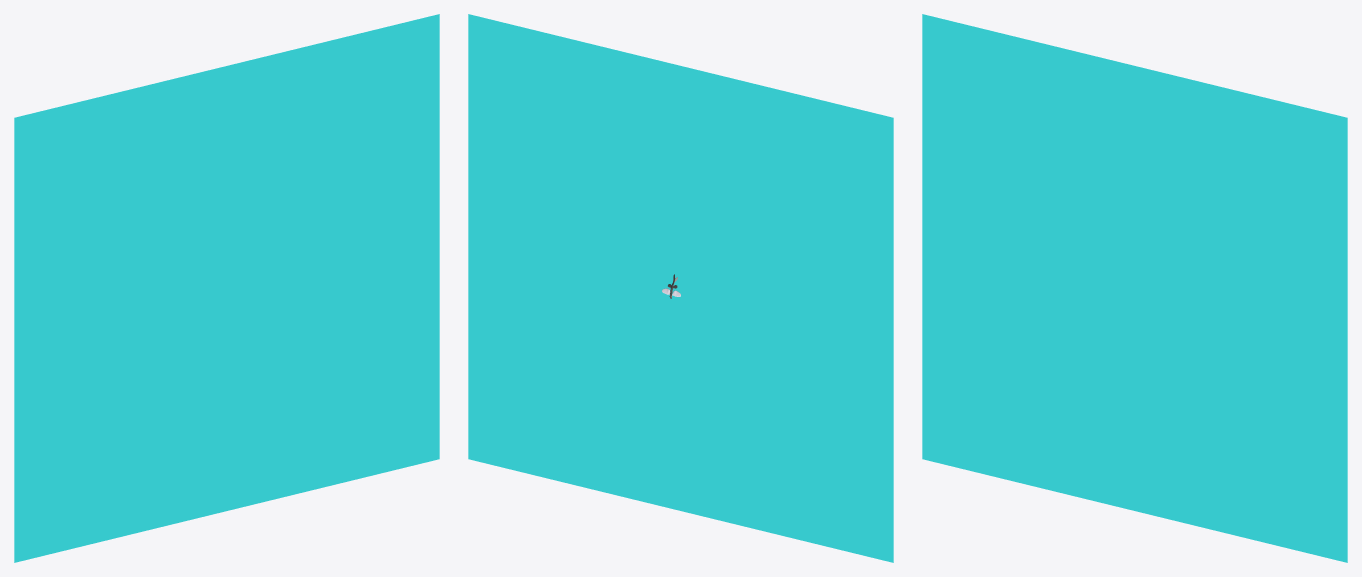
The model's file is Exocoetidae.fbx.
3 renders of one model, left to right at view 1: azimuth 30°, elevation 25°; view 2: azimuth 150°, elevation 25°; view 3: azimuth 330°, elevation 25°, orthographic.
Visible parts, largest first — view 1: imagetostl_mesh1; view 2: imagetostl_mesh1; view 3: imagetostl_mesh1.
Part boxes in pixels (left/top/right/bottom): imagetostl_mesh1: left=14, top=14, right=439, bottom=562; imagetostl_mesh1: left=468, top=14, right=893, bottom=562; imagetostl_mesh1: left=922, top=14, right=1347, bottom=562.
Bounding box in the file's own units: 10000 × 10000 × 440.
